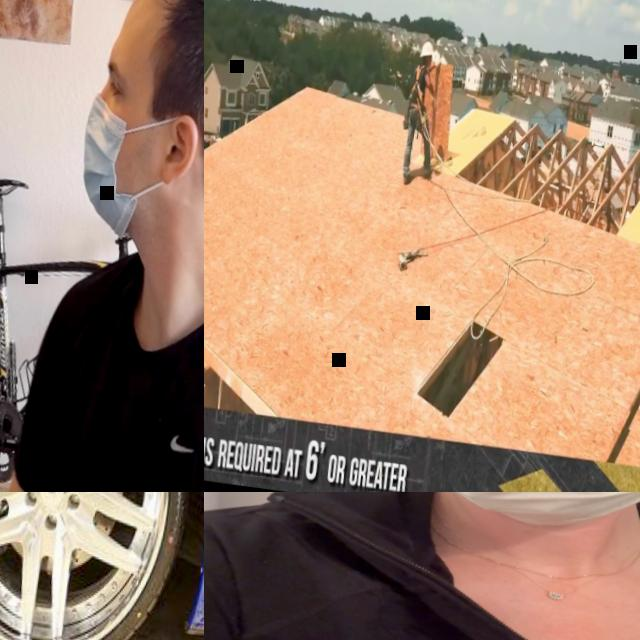Hardhat: (418, 39, 434, 60)
Mask: (68, 90, 178, 250), (362, 492, 640, 542)
NO-Hardhat: (123, 0, 204, 78)
NO-Mask: (425, 58, 430, 66)
NO-Safety Vest: (204, 492, 640, 640), (33, 249, 204, 492), (409, 63, 427, 105)
Person: (0, 0, 204, 492), (204, 492, 640, 640), (396, 39, 446, 188)
vehicle: (0, 492, 204, 640)
